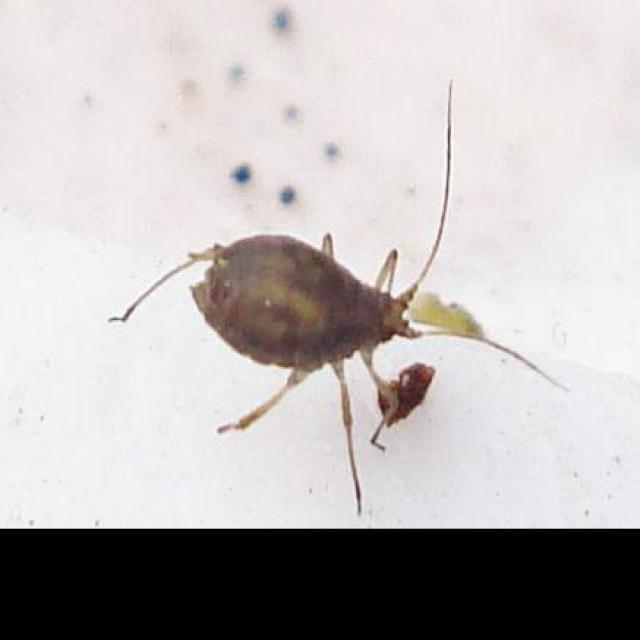aphid: (145, 183, 485, 472)
